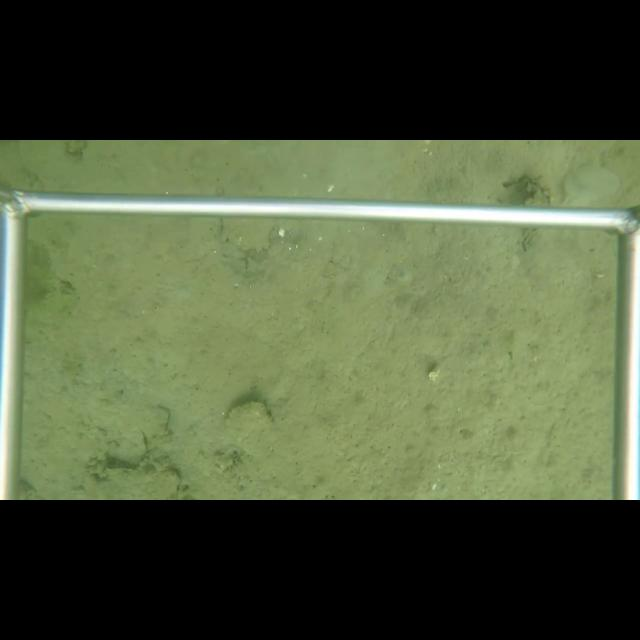Oyster-Closed: (80, 467, 180, 500), (224, 400, 275, 428)
